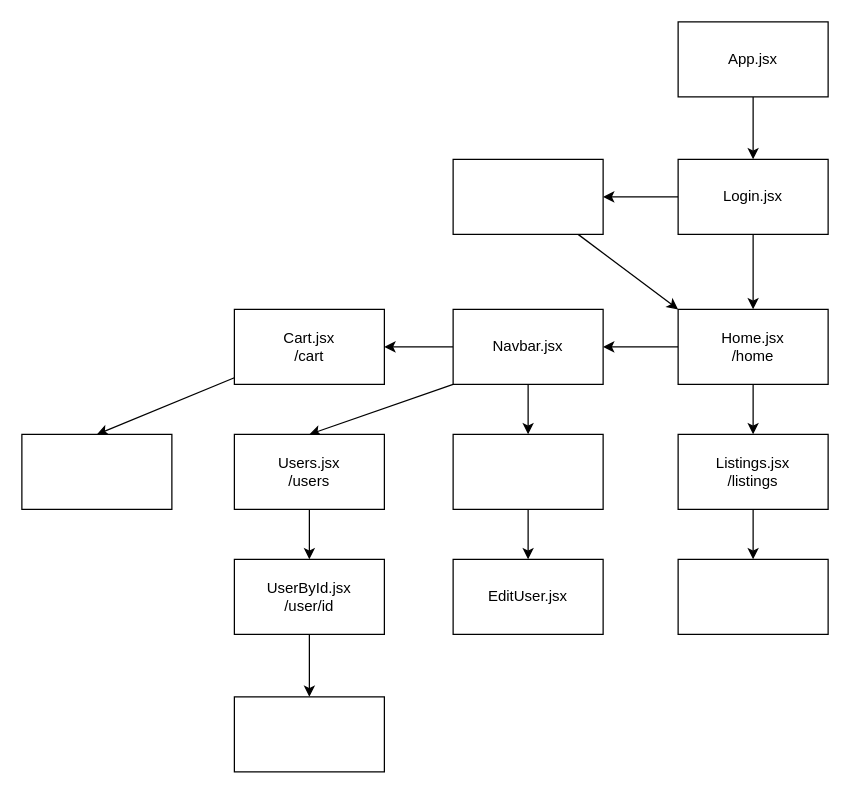
The diagram is 850 pixels wide and 794 high, and some of its shapes have lost their labels. The shapes that lost their labels are listed below. From the top down, each one's centre as x and y in pixels, then its label:
At (x=527, y=196): "CreateUser.jsx /create_user".
At (x=96, y=471): "CartedItems.jsx".
At (x=527, y=471): "UserProfile.jsx /user_profile".
At (x=752, y=596): "ListingById.jsx /listing/id".
At (x=308, y=734): "Orders.jsx".
